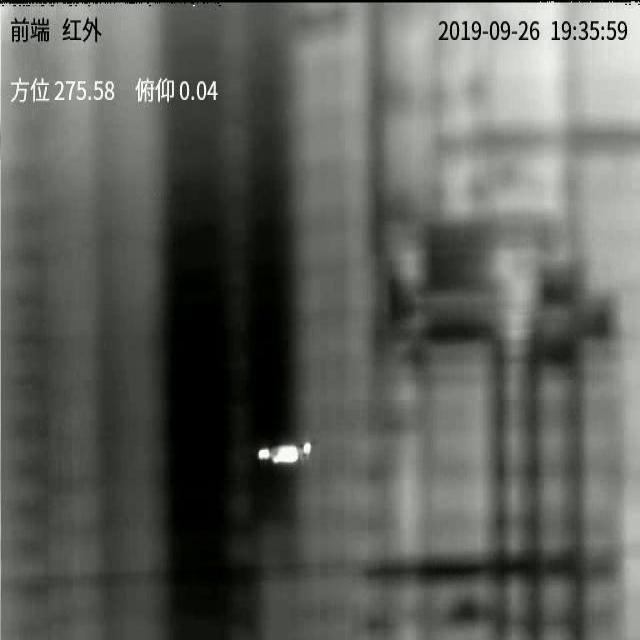drone: (257, 442, 312, 466)
